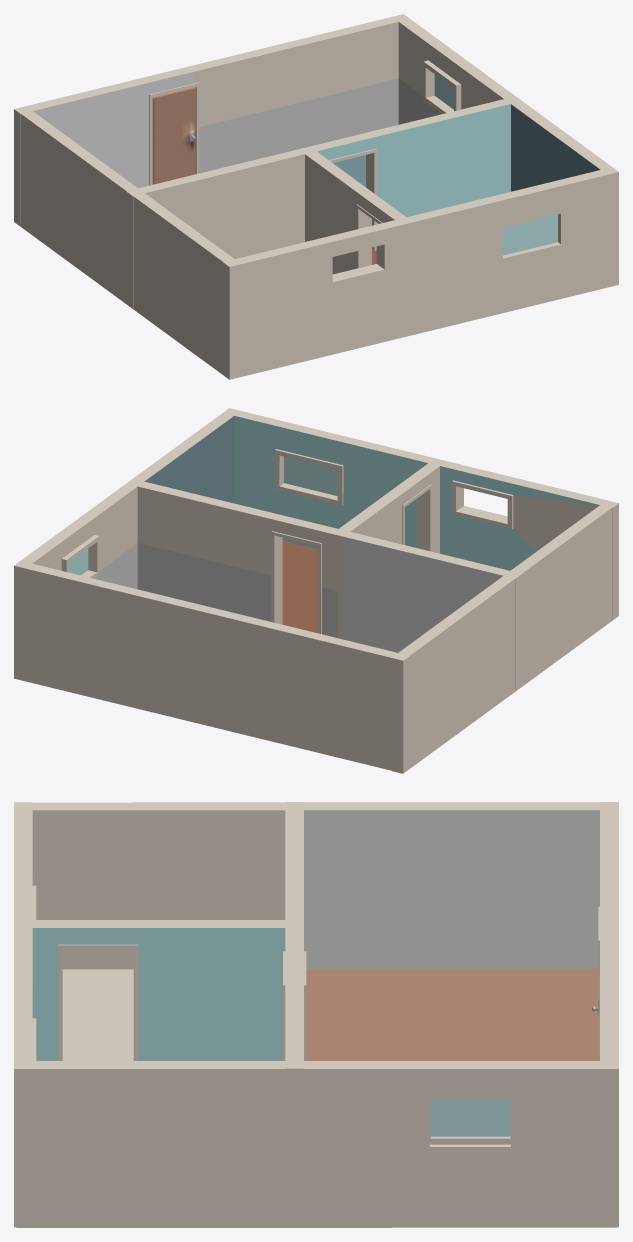
Rendered from Walls and floor.fbx.
The picture shows the model from 3 angles, top to bottom: view 1: azimuth 30°, elevation 25°; view 2: azimuth 150°, elevation 25°; view 3: azimuth 270°, elevation 25°; orthographic projection. The views are drawn at different scales.
Visible parts, largest first — view 1: S_wall, N_wall, Bedroom_doorway_wall, W_wall, E_wall, Bathroom_doorway_wall, Floor; view 2: N_wall, Bedroom_doorway_wall, S_wall, W_wall, E_wall, Bathroom_doorway_wall, Floor; view 3: E_wall, W_wall, Floor, Bathroom_doorway_wall, N_wall, S_wall, Bedroom_doorway_wall.
Part boxes in pixels (left/top/right/bottom): S_wall: left=223, top=167, right=618, bottom=379; N_wall: left=14, top=14, right=409, bottom=226; Bedroom_doorway_wall: left=126, top=96, right=521, bottom=308; W_wall: left=21, top=111, right=234, bottom=374; E_wall: left=398, top=14, right=612, bottom=191; Bathroom_doorway_wall: left=299, top=147, right=412, bottom=274; Floor: left=333, top=155, right=376, bottom=264; N_wall: left=14, top=561, right=409, bottom=773; Bedroom_doorway_wall: left=126, top=479, right=522, bottom=691; S_wall: left=223, top=408, right=618, bottom=620; W_wall: left=391, top=505, right=611, bottom=773; E_wall: left=21, top=409, right=234, bottom=589; Bathroom_doorway_wall: left=332, top=458, right=446, bottom=553; Floor: left=282, top=540, right=317, bottom=633; E_wall: left=16, top=1061, right=617, bottom=1227; W_wall: left=32, top=802, right=599, bottom=969; Floor: left=62, top=969, right=598, bottom=1060; Bathroom_doorway_wall: left=14, top=920, right=302, bottom=1060; N_wall: left=592, top=802, right=618, bottom=1226; S_wall: left=14, top=802, right=36, bottom=1227; Bedroom_doorway_wall: left=283, top=802, right=306, bottom=1068.
Bounding box in the file's own units: 1611 × 448 × 1544.
